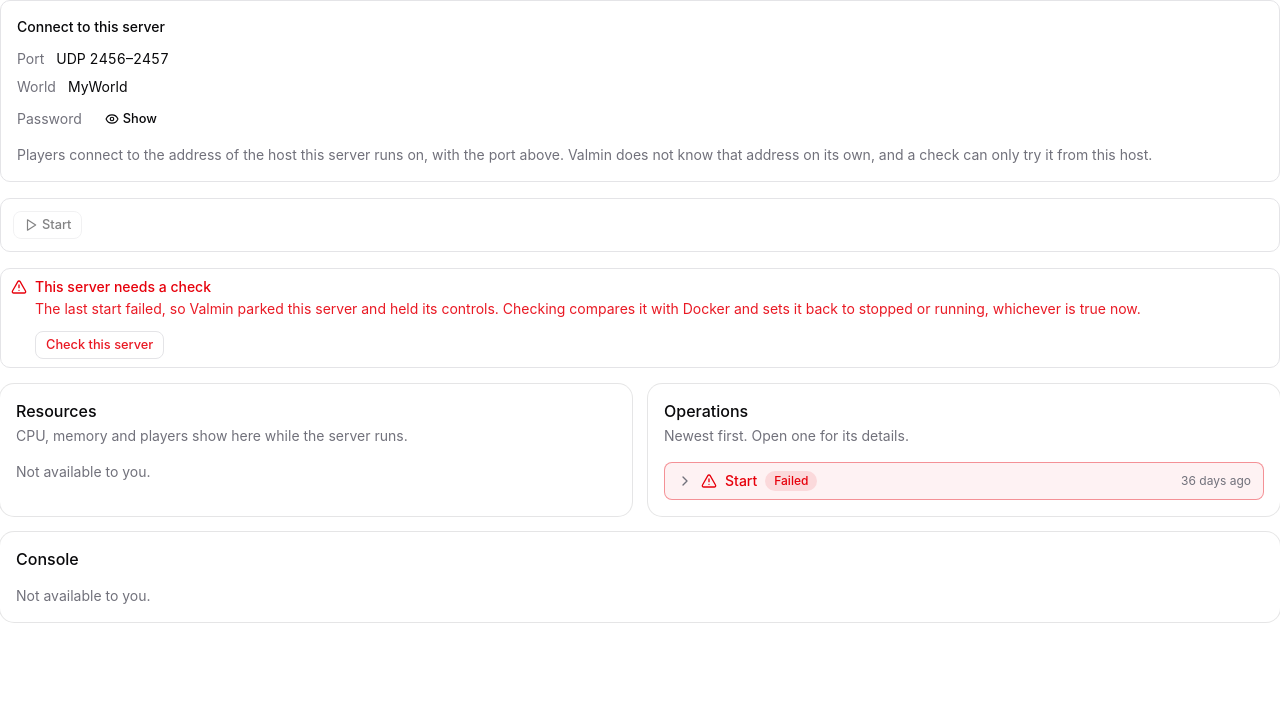
Scenario: the server page › offers a check on a parked server and re-reads the row the daemon lands on
Click the button "Check this server" at coordinates (100, 345), box left=35, top=331, right=164, bottom=359
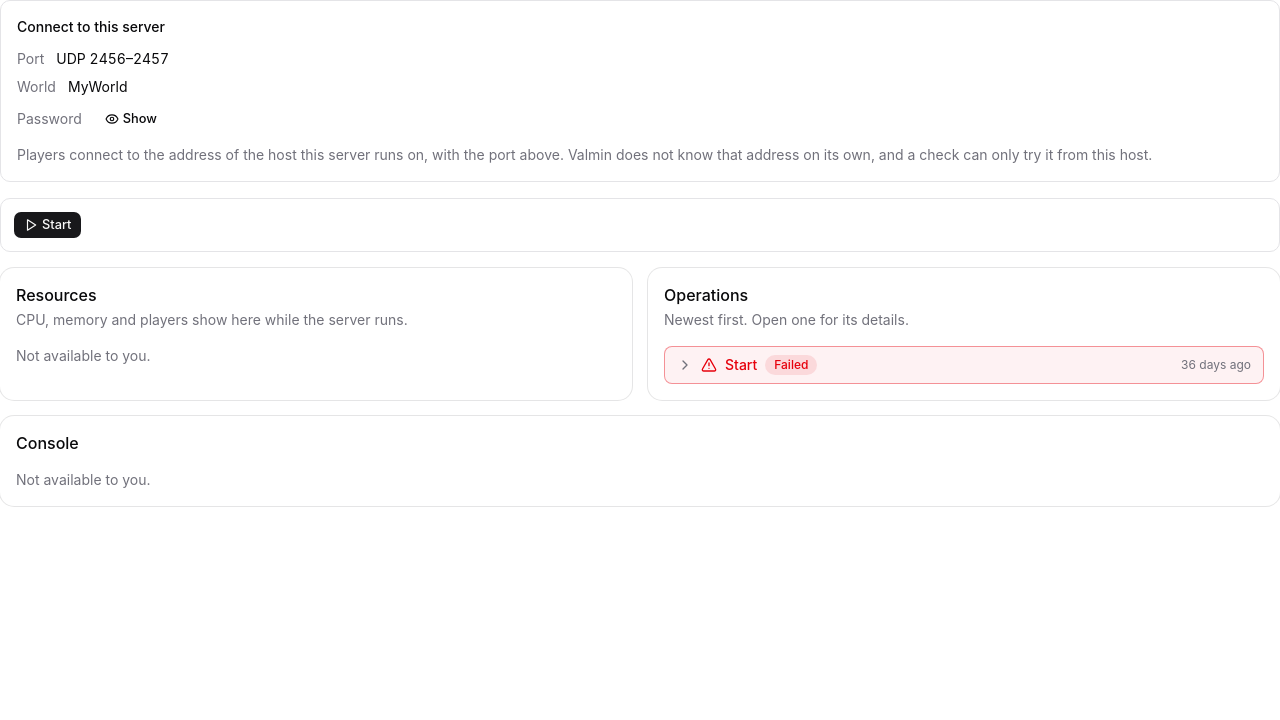
Check: the text "This server needs a check" is gone
